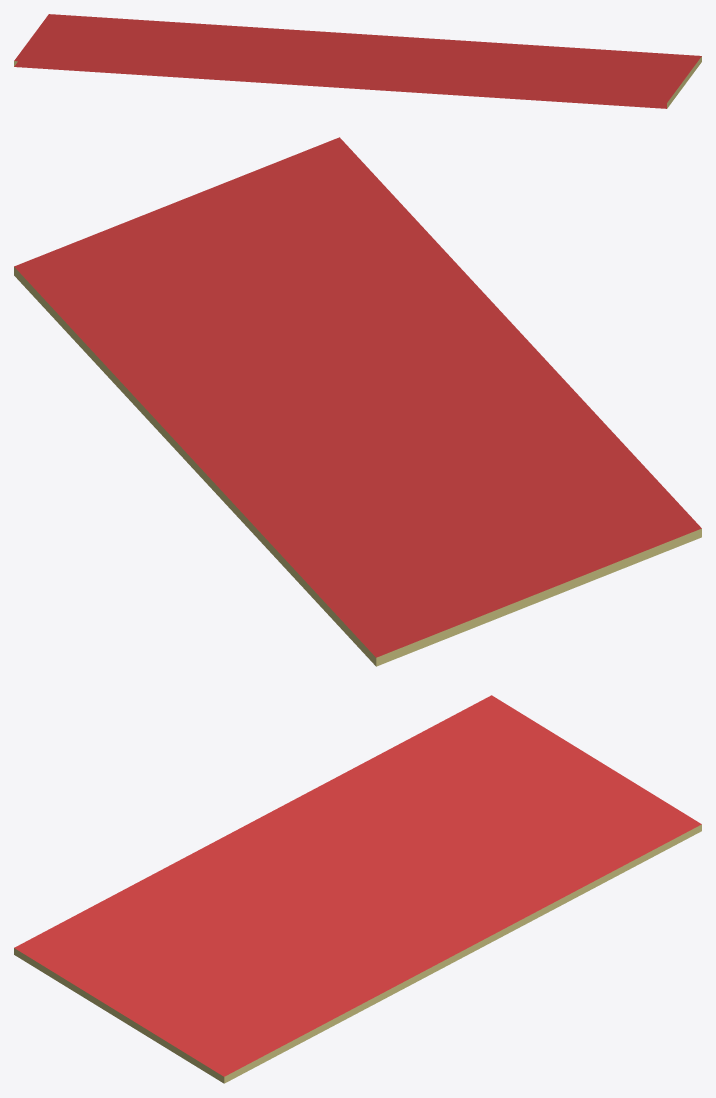
3 views of the same model, one above another, from view 1: azimuth 30°, elevation 25°; view 2: azimuth 150°, elevation 25°; view 3: azimuth 270°, elevation 25° (orthographic). The views are drawn at different scales.
Parts seen in each view (by area): view 1: group_3, group_5, group_4; view 2: group_3, group_4; view 3: group_3, group_4.
Part boxes in pixels (box(x1,y1,x2,y2)): group_3: box(14, 14, 701, 102); group_5: box(14, 61, 666, 108); group_4: box(14, 56, 701, 108); group_3: box(14, 137, 701, 657); group_4: box(14, 267, 701, 666); group_3: box(14, 695, 701, 1076); group_4: box(14, 824, 701, 1083).
Bounding box in the file's own units: 10.08 × 9.06 × 0.944.
